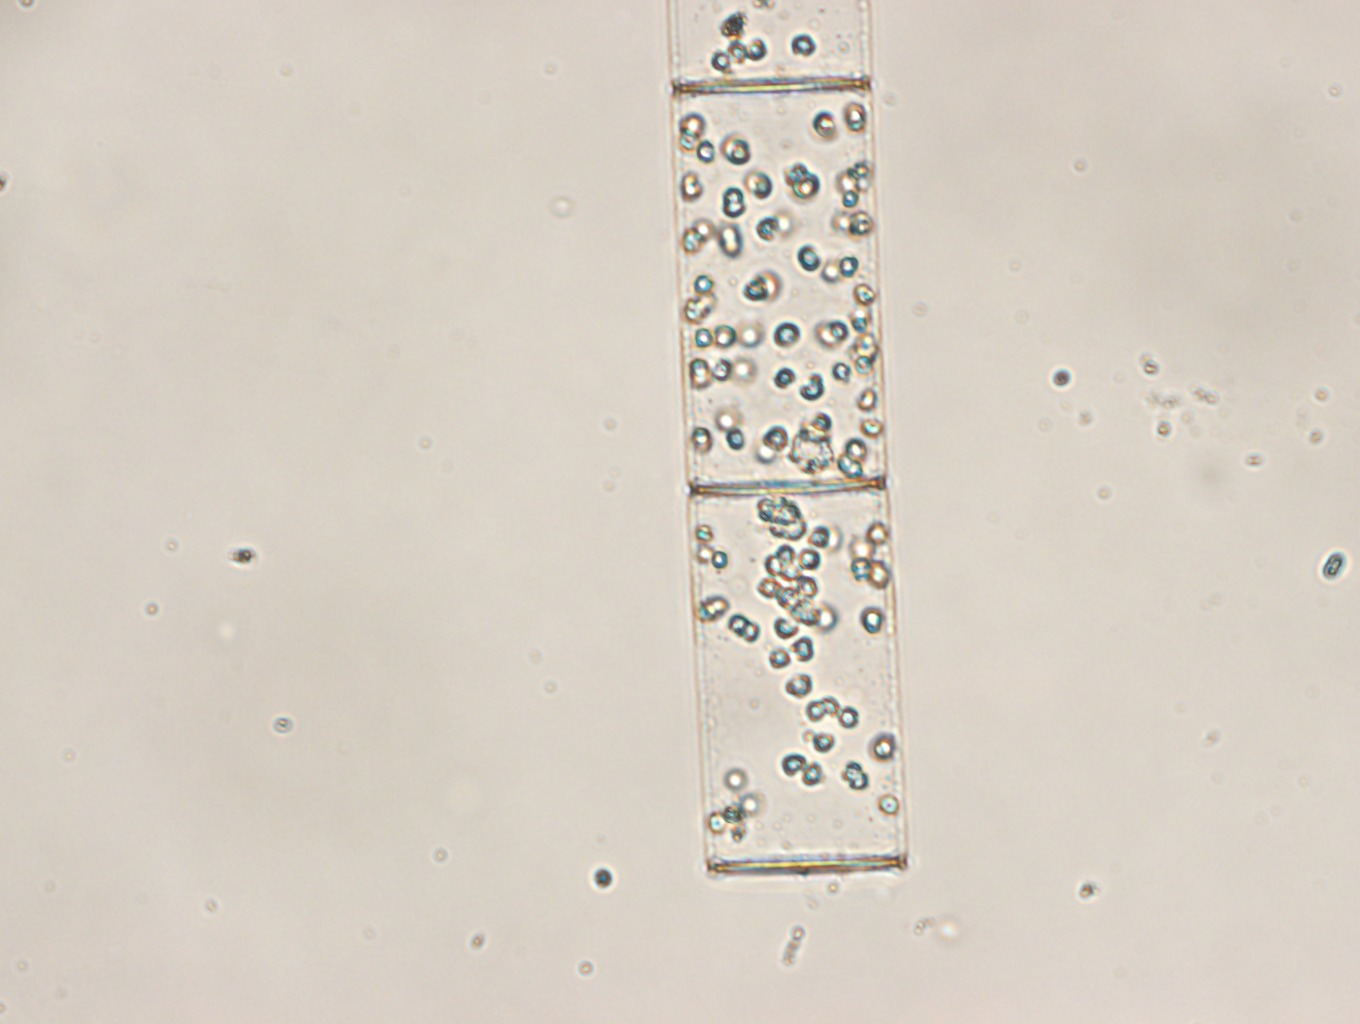guinardia flaccida: (660, 1, 908, 876)
